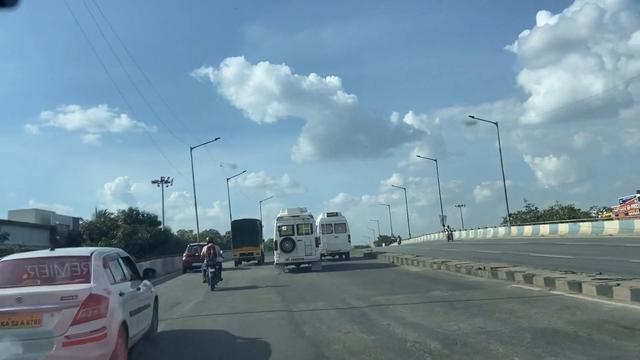HMV: (272, 205, 325, 278), (313, 211, 351, 267), (227, 215, 266, 267)
LMV: (0, 250, 159, 360), (198, 239, 224, 289), (180, 239, 203, 272)
RoadDamages: (304, 293, 518, 360)
